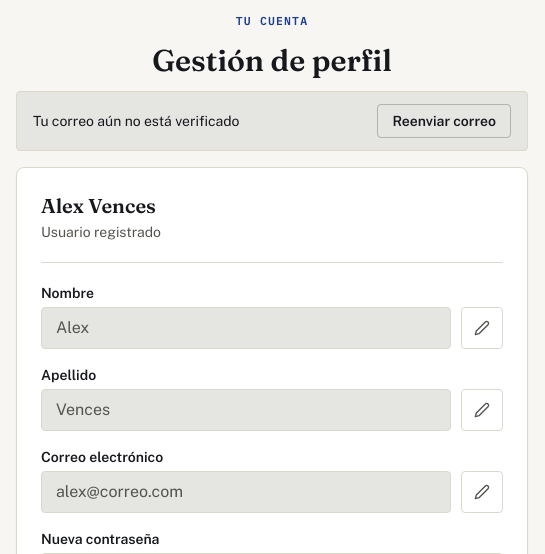
Test case: GestionarPerfil: cuentas sin contraseña (Google) › email verification banner › is shown when not verified; resend disables the button and confirms
Expected: the text "Tu correo aún no está verificado" is shown, [33,111,240,131]
Click the button "Reenviar correo" at (444, 121), box [377,104,511,138]
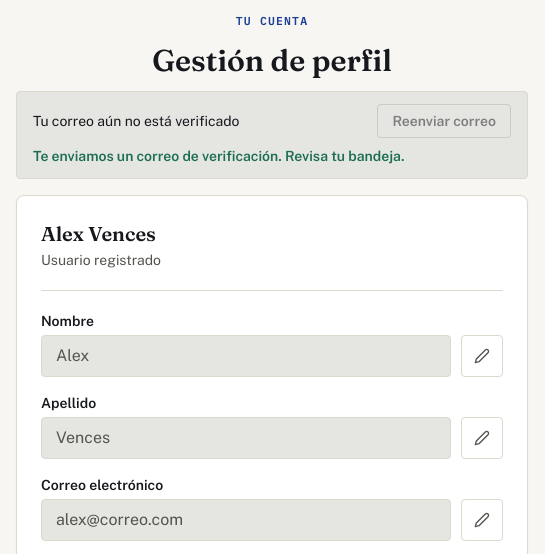
Expected: the button named "Enviando..." is disabled, [377,104,511,138]
Expected: the message shows "Te enviamos un correo de verificación", [33,148,404,164]
Expected: the button "Reenviar correo" is disabled, [377,104,511,138]
